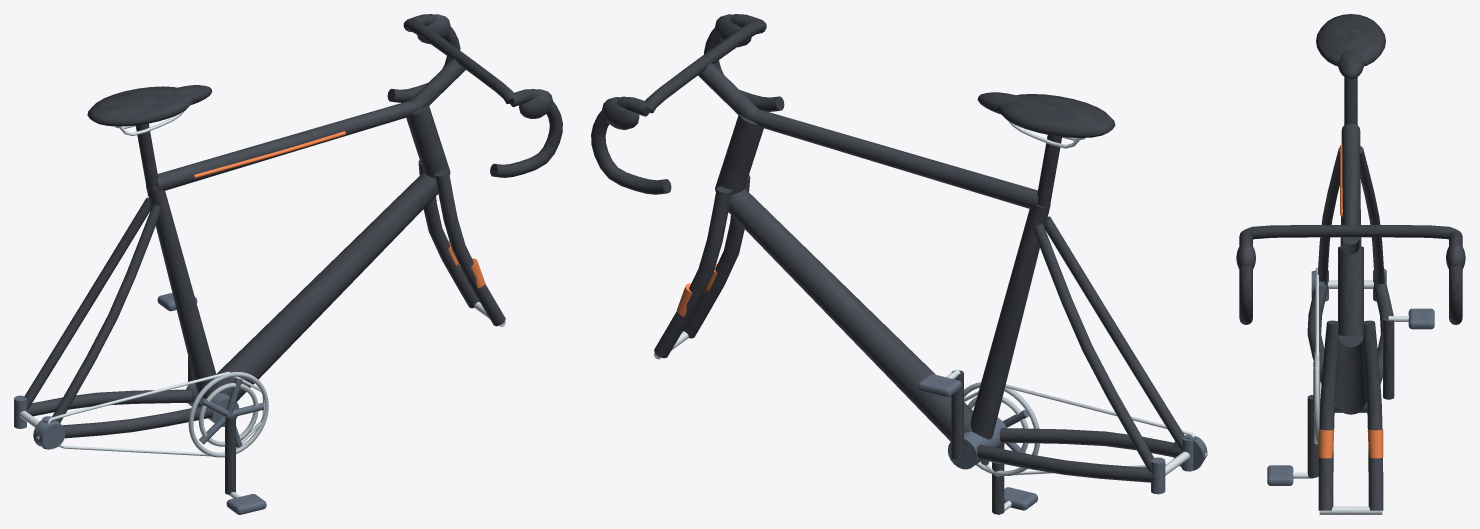
File: bike_frame.glb
The picture shows the model from 3 angles, left to right: view 1: azimuth 30°, elevation 25°; view 2: azimuth 150°, elevation 25°; view 3: azimuth 270°, elevation 25°; orthographic projection. The views are drawn at different scales.
Parts seen in each view (by area): view 1: bike_frame; view 2: bike_frame; view 3: bike_frame.
Boxes of the visible parts, <box> form: bike_frame: <box>14,14,562,514</box>; bike_frame: <box>591,14,1207,514</box>; bike_frame: <box>1236,14,1465,514</box>.
Bounding box in the file's own units: 1.11 × 0.87 × 0.438.
1 material, 1 textured.
